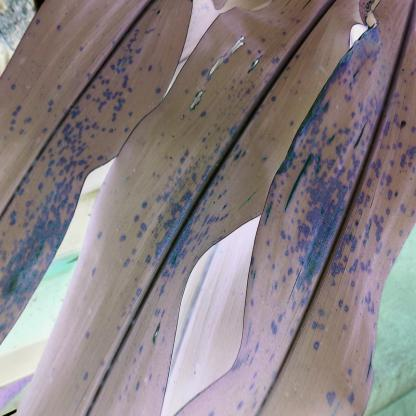corn rust leaf: (48, 14, 328, 416), (224, 8, 416, 408), (0, 5, 191, 343)
